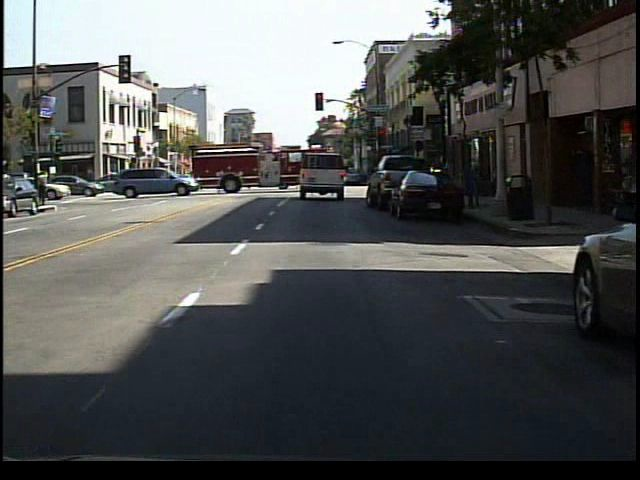person: (38, 168, 52, 207)
